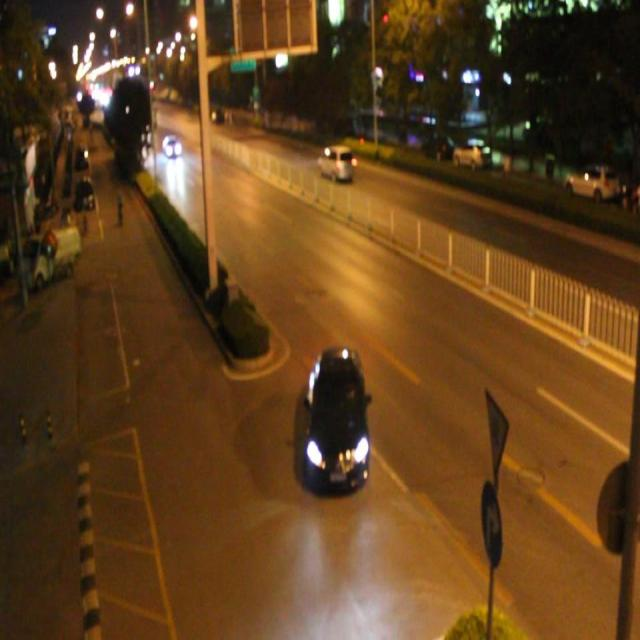car: (305, 346, 368, 492), (315, 145, 353, 181), (162, 136, 181, 158), (138, 123, 153, 144)
